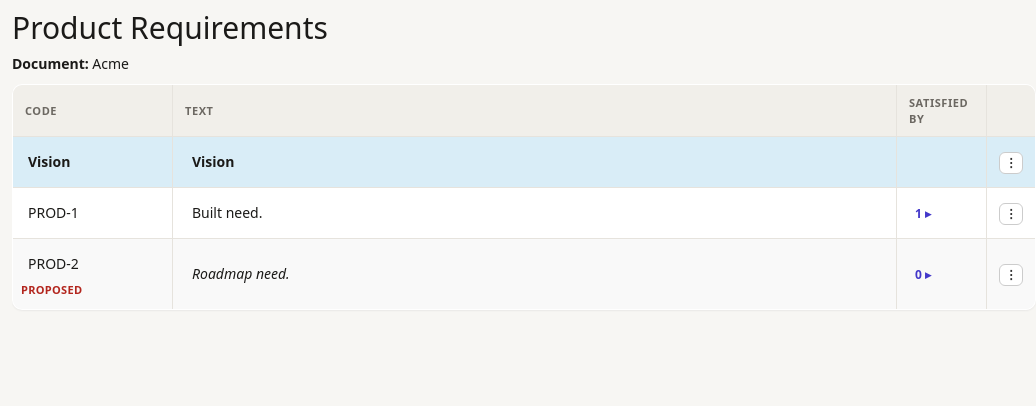
Scenario: PrdTable › shows each item's downward trace as an expandable Satisfied-by toggle
Step 1. Click the button named "Show requirements satisfying p_a" → click(923, 214), box [909,202,937,224]
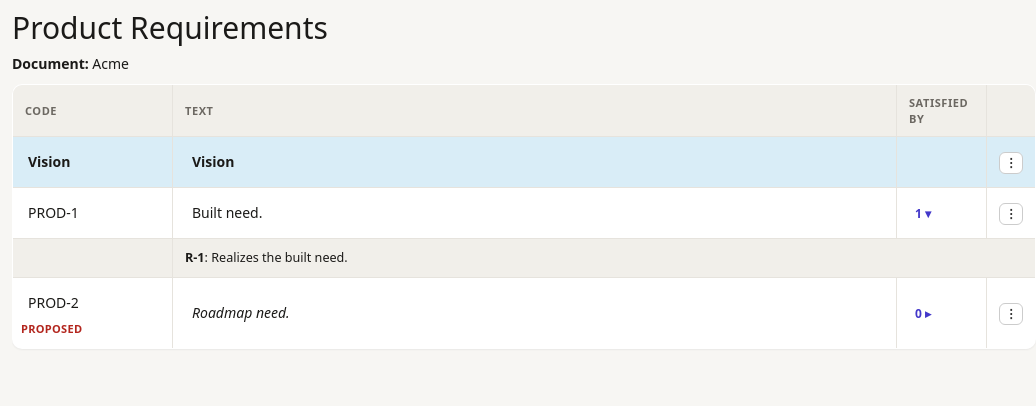
expect the text "R-1" is shown: met, box [185,249,205,266]
Step 2. Click the button named "Show requirements satisfying p_b" → click(923, 314), box [909,302,937,324]
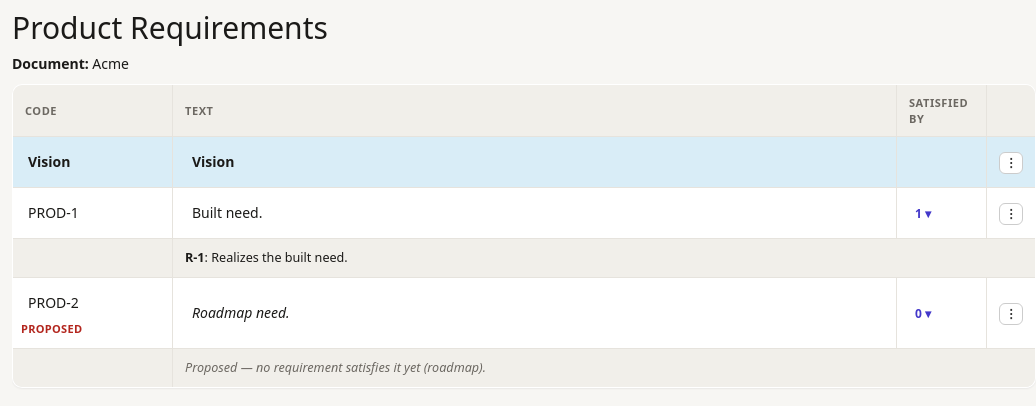
expect the text "Proposed — no requirement satisfies it yet (roadmap)." is shown: met, box [185,359,486,376]
